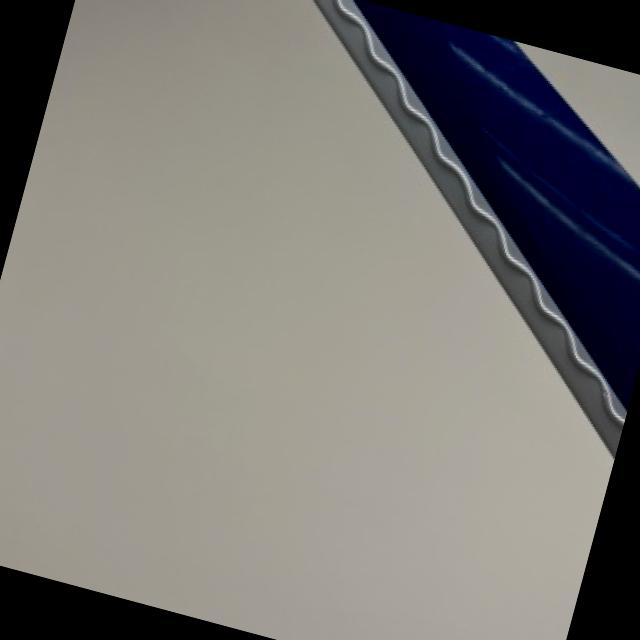healthy: (314, 0, 640, 452)
